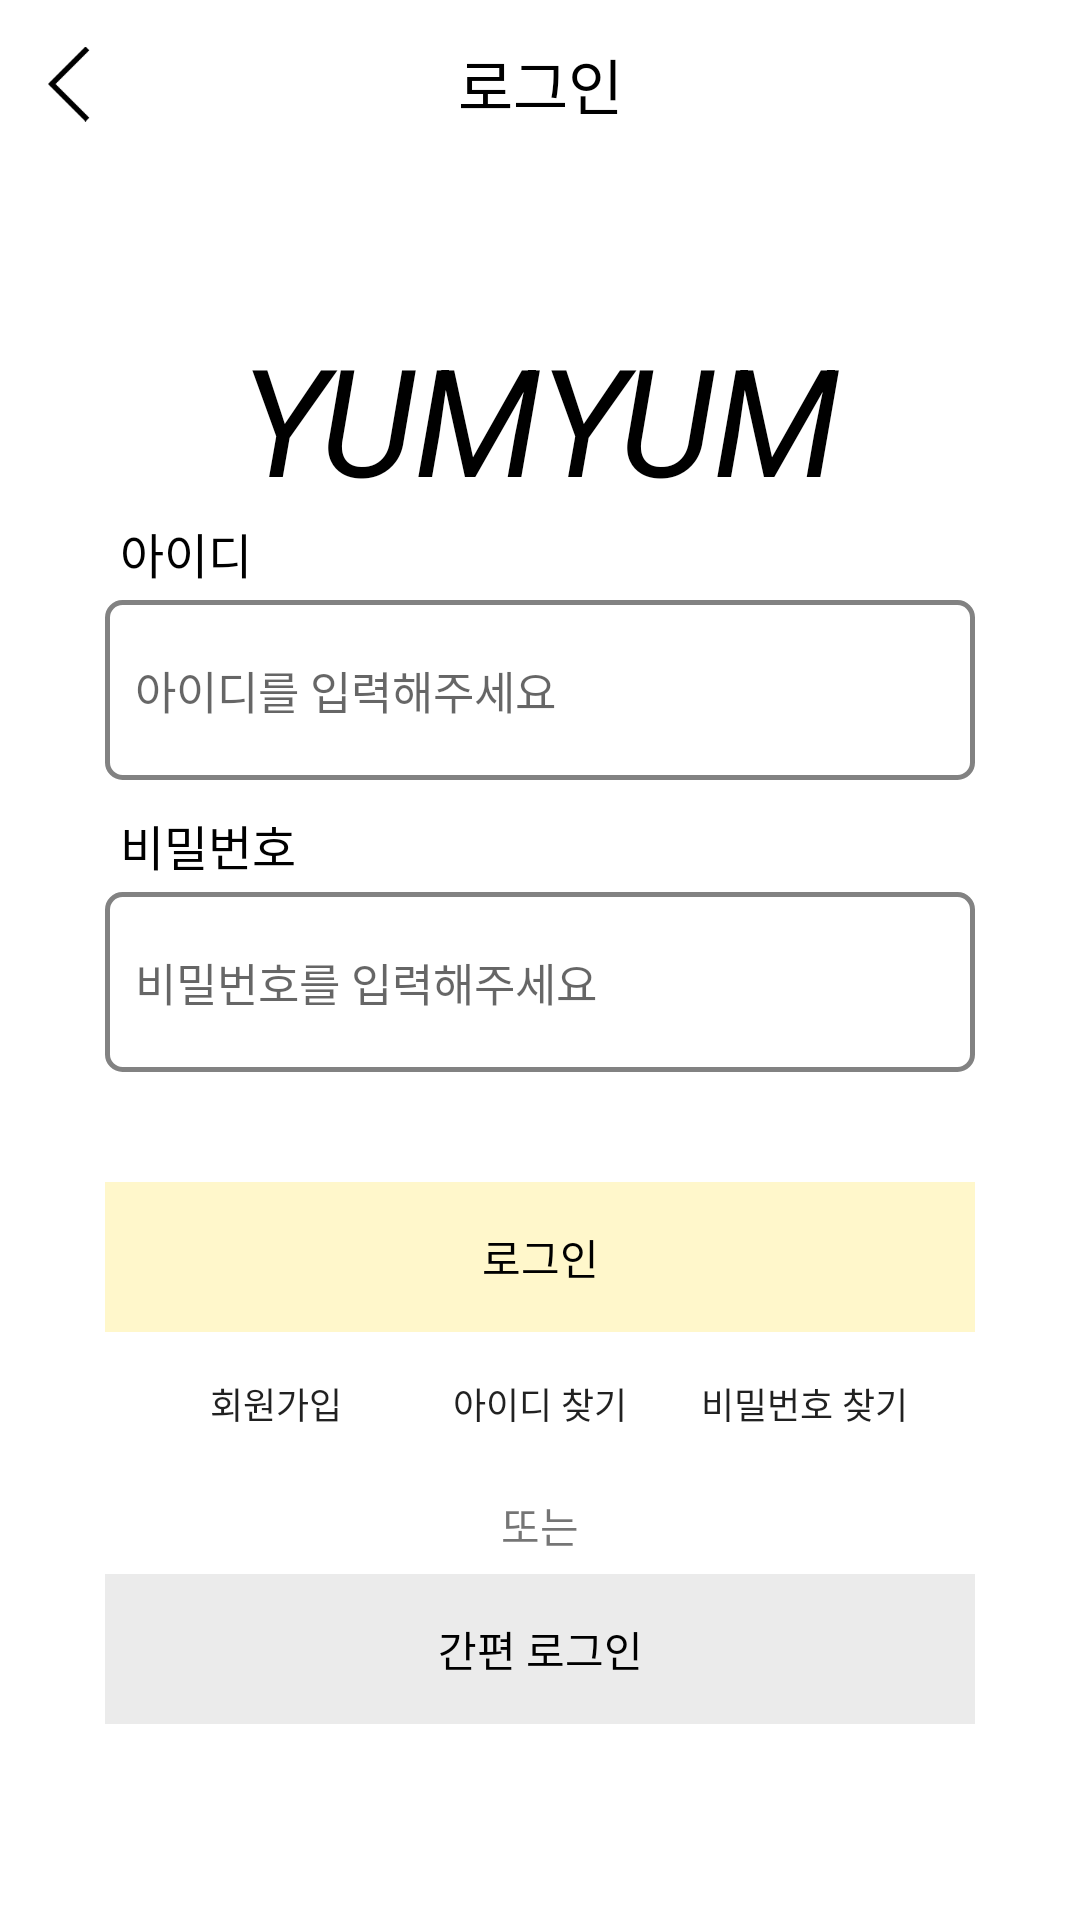

Where to tap for icons on this 1080×1920 app screen, as (x=x, y=y):
back: (x=68, y=84)
